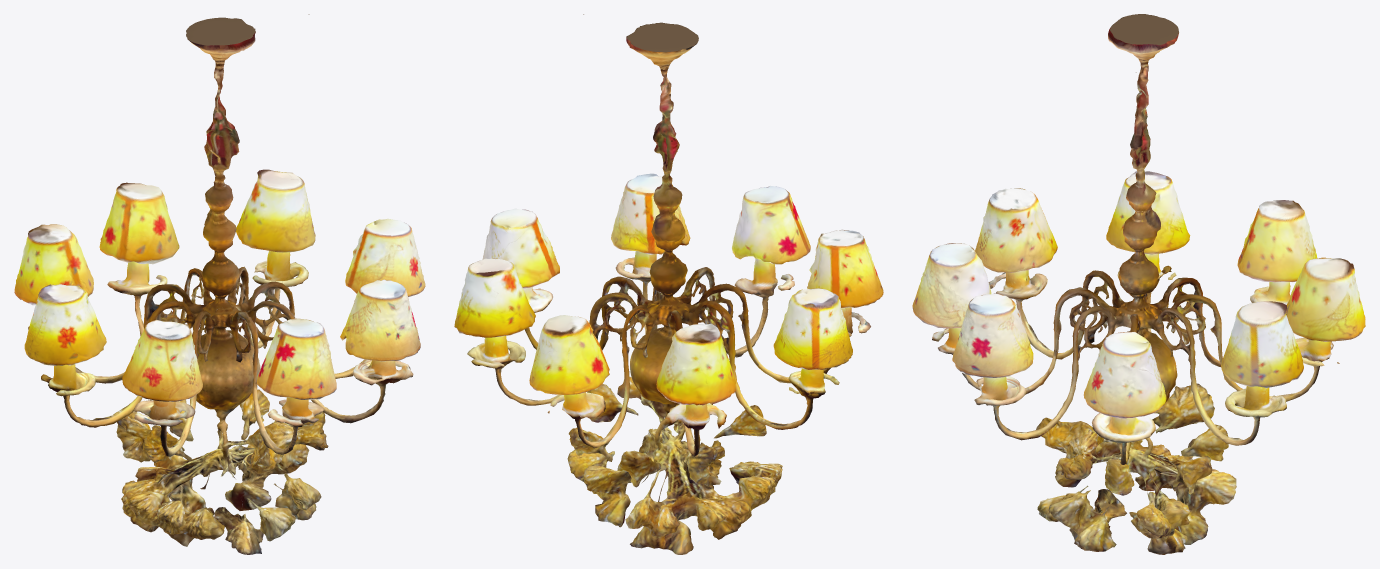
File: ChandelierlowPoly.glb
3 renders of one model, left to right at view 1: azimuth 30°, elevation 25°; view 2: azimuth 150°, elevation 25°; view 3: azimuth 270°, elevation 25°, orthographic. The views are drawn at different scales.
Visible parts, largest first — view 1: Object_2, Object_3; view 2: Object_2, Object_3; view 3: Object_2, Object_3.
Part boxes in pixels (box(x1,y1,x2,y2)): Object_2: box(14, 32, 425, 554); Object_3: box(186, 14, 309, 45); Object_2: box(454, 37, 883, 554); Object_3: box(583, 14, 698, 52); Object_2: box(912, 27, 1365, 554); Object_3: box(1110, 14, 1178, 72).
Bounding box in the file's own units: 0.4818 × 0.6191 × 0.4873.
Materials: 1 (1 with a texture image).
